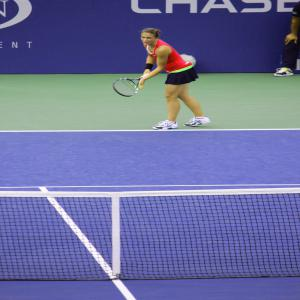TennisBall: (135, 86, 143, 90)
